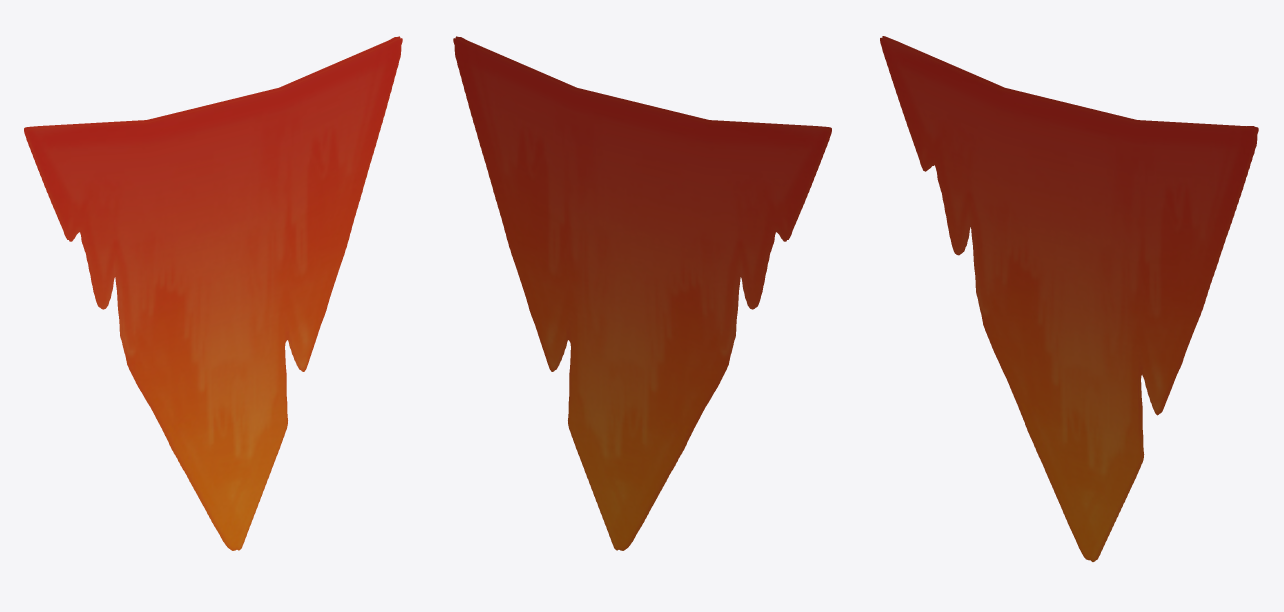
The model's file is DE_House_Mod_Part_30a.fbx.
3 views of the same model, side by side, from view 1: azimuth 30°, elevation 25°; view 2: azimuth 150°, elevation 25°; view 3: azimuth 330°, elevation 25° (orthographic).
Visible parts, largest first — view 1: DE_House_Mod_Part_30a; view 2: DE_House_Mod_Part_30a; view 3: DE_House_Mod_Part_30a.
Boxes of the visible parts, <box> form: DE_House_Mod_Part_30a: <box>24,36,402,550</box>; DE_House_Mod_Part_30a: <box>453,36,831,550</box>; DE_House_Mod_Part_30a: <box>880,36,1258,561</box>.
Bounding box in the file's own units: 0.8872 × 1.09 × 0.00929.
